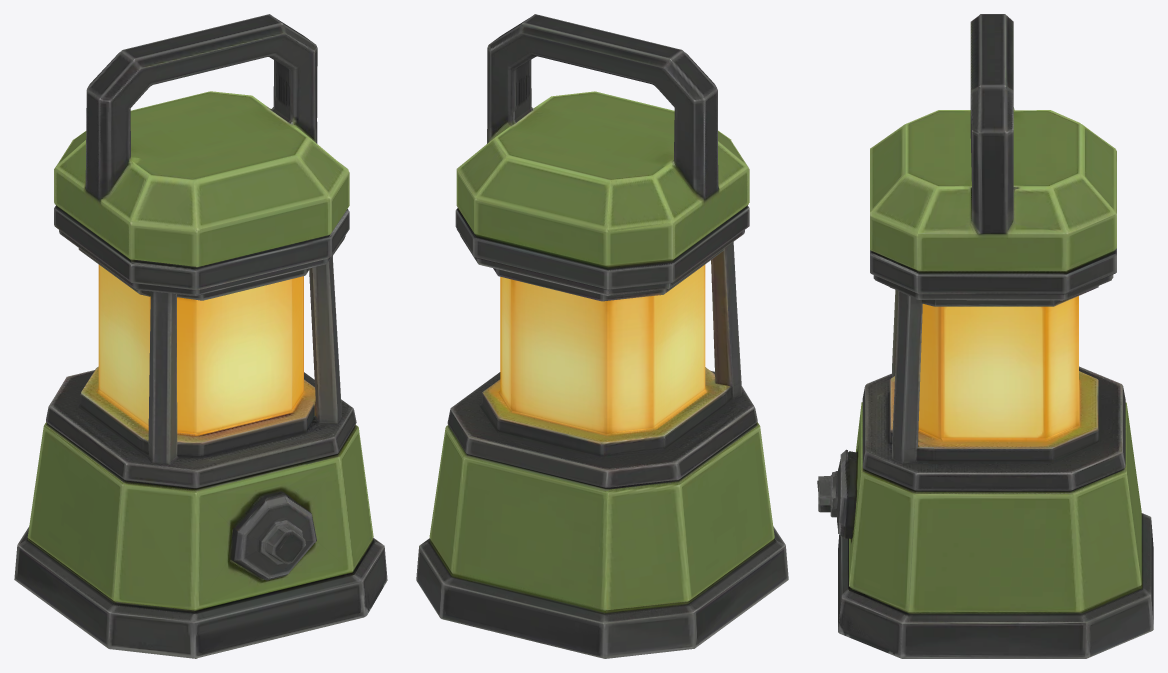
The model's file is env_lantern.glb.
3 renders of one model, left to right at view 1: azimuth 30°, elevation 25°; view 2: azimuth 150°, elevation 25°; view 3: azimuth 270°, elevation 25°, orthographic.
Size of the model in its own units: 1.02 by 1.91 by 1.07.
1 material, 1 textured.
